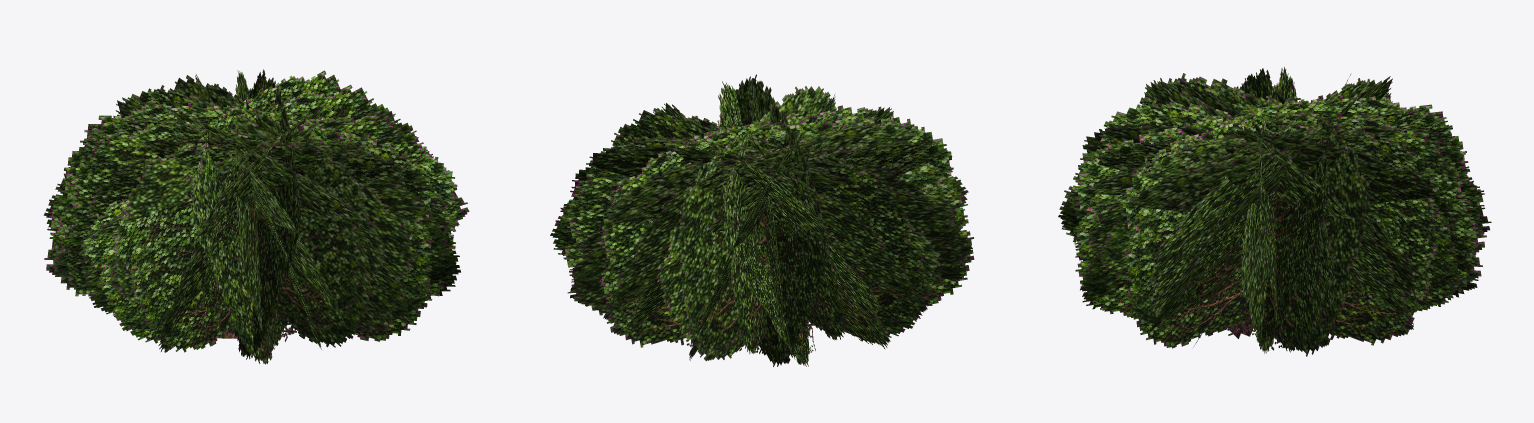
Rendered from mm9_deco_bush03.glb.
3 renders of one model, left to right at view 1: azimuth 30°, elevation 25°; view 2: azimuth 150°, elevation 25°; view 3: azimuth 270°, elevation 25°, orthographic. The views are drawn at different scales.
Parts seen in each view (by area): view 1: Bush03; view 2: Bush03; view 3: Bush03.
Boxes of the visible parts, box(x1,y1,x2,y2) form: Bush03: box(43, 69, 469, 364); Bush03: box(550, 74, 974, 366); Bush03: box(1058, 67, 1491, 356).
Bounding box in the file's own units: 1.72 × 0.925 × 1.73.
1 material, 1 textured.
